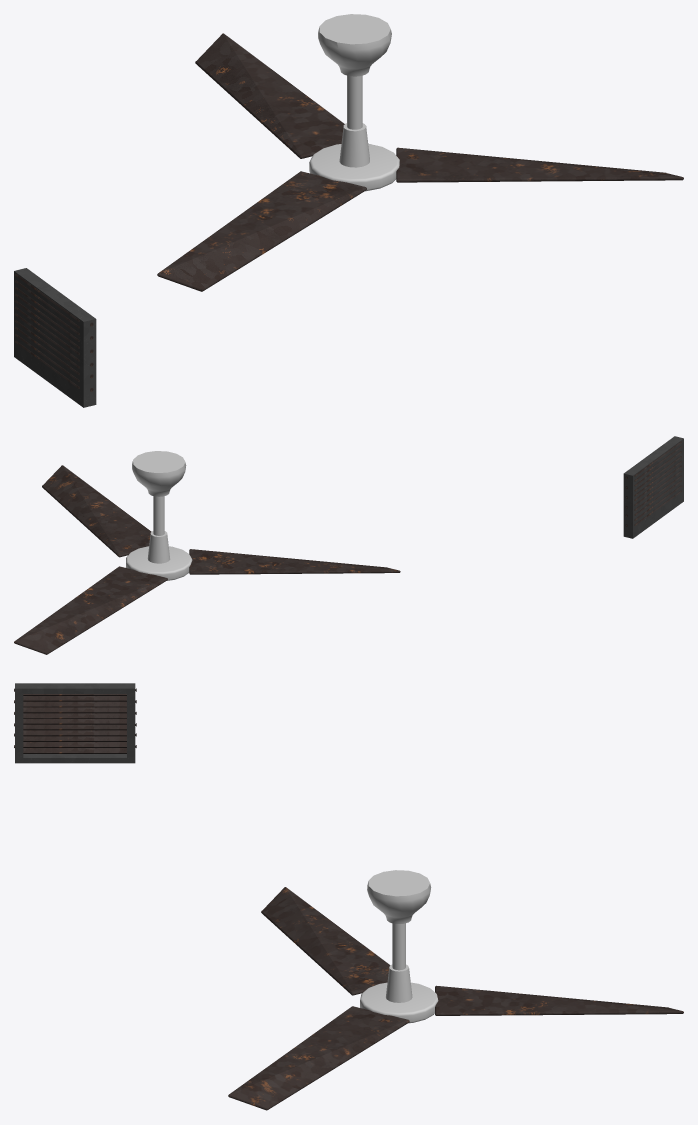
File: Baked4.fbx
3 renders of one model, top to bottom at view 1: azimuth 30°, elevation 25°; view 2: azimuth 150°, elevation 25°; view 3: azimuth 270°, elevation 25°, orthographic. The views are drawn at different scales.
Visible parts, largest first — view 1: Blades, Vent, Base, TurnBase; view 2: Blades, Vent, Base, TurnBase; view 3: Blades, Vent, Base, TurnBase.
Boxes of the visible parts, box(x1,y1,x2,y2) form: Blades: box(157, 33, 683, 291); Vent: box(14, 268, 96, 407); Base: box(318, 14, 391, 129); TurnBase: box(309, 123, 399, 191); Blades: box(14, 465, 400, 654); Vent: box(623, 436, 683, 538); Base: box(132, 451, 186, 535); TurnBase: box(126, 531, 192, 580); Blades: box(228, 887, 683, 1110); Vent: box(14, 683, 136, 763); Base: box(367, 870, 431, 970); TurnBase: box(360, 964, 438, 1023).
Bounding box in the file's own units: 425 × 82.38 × 390.
2 materials, 2 textured.
